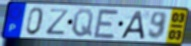0: (25, 7, 45, 36)
9: (147, 11, 167, 41)
A: (119, 10, 146, 40)
E: (92, 8, 121, 40)
Q: (70, 8, 95, 38)
Z: (46, 8, 72, 36)
